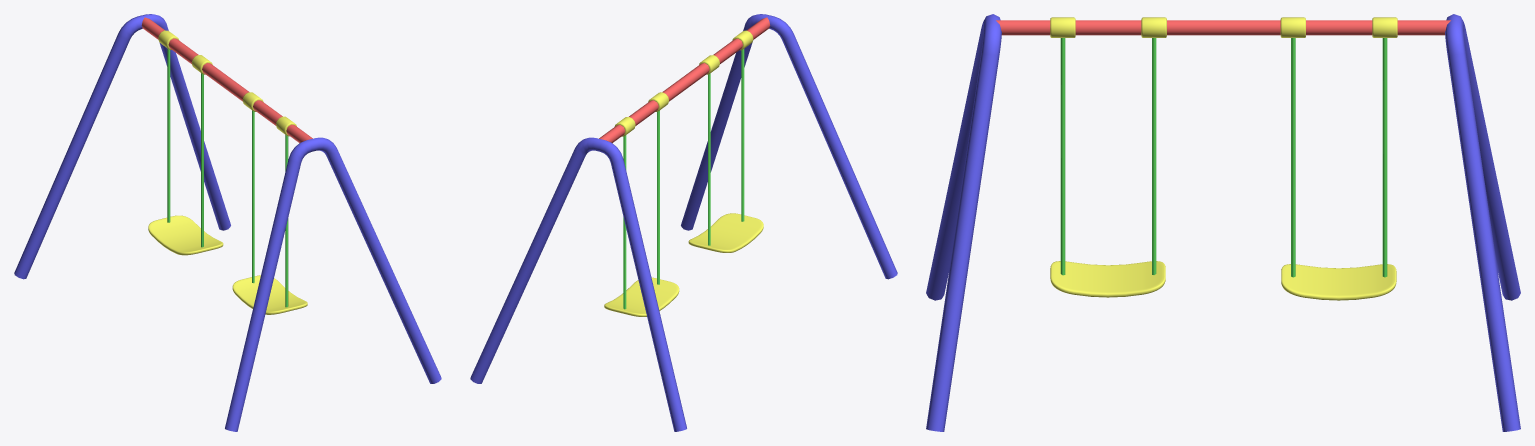
The model's file is SM_Balanca.fbx.
3 views of the same model, side by side, from view 1: azimuth 30°, elevation 25°; view 2: azimuth 150°, elevation 25°; view 3: azimuth 270°, elevation 25° (orthographic). The views are drawn at different scales.
Visible parts, largest first — view 1: SM_Balanca; view 2: SM_Balanca; view 3: SM_Balanca.
Boxes of the visible parts, x1,y1,x2,y2 form: SM_Balanca: (14,14,441,431); SM_Balanca: (470,14,897,431); SM_Balanca: (926,14,1520,431).
Size of the model in its own units: 147 by 166 by 258.
